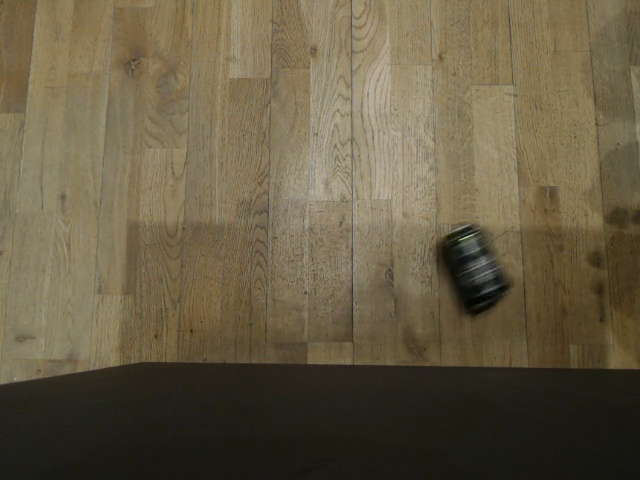beer: (426, 216, 524, 322)
